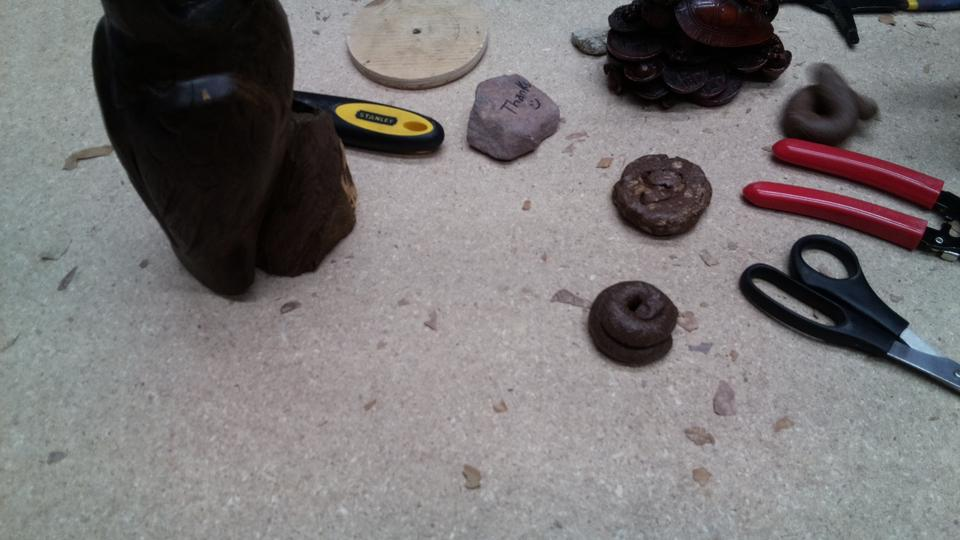poop: (607, 149, 716, 242), (777, 62, 883, 152), (585, 278, 682, 370)
